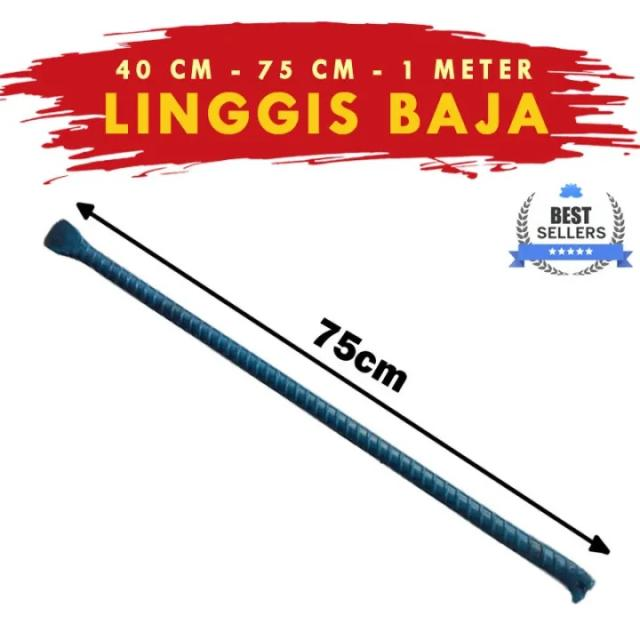Linggis: (44, 219, 595, 602)
